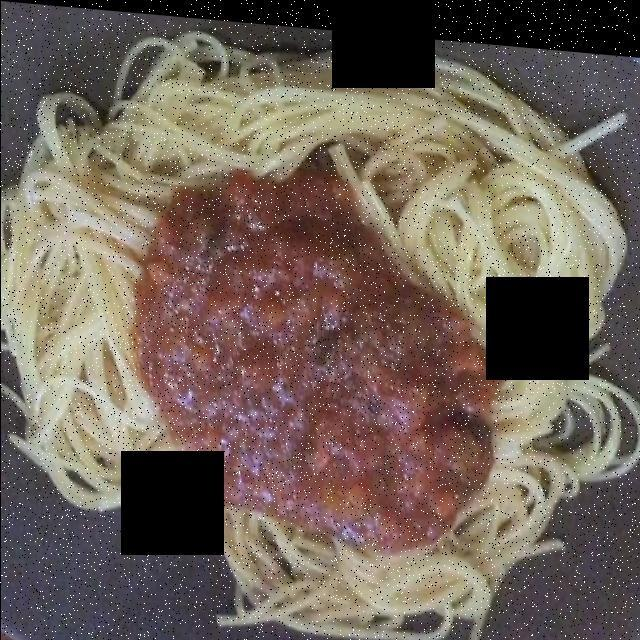pasta: (5, 49, 622, 631)
tomato-sauce: (108, 116, 470, 545)
